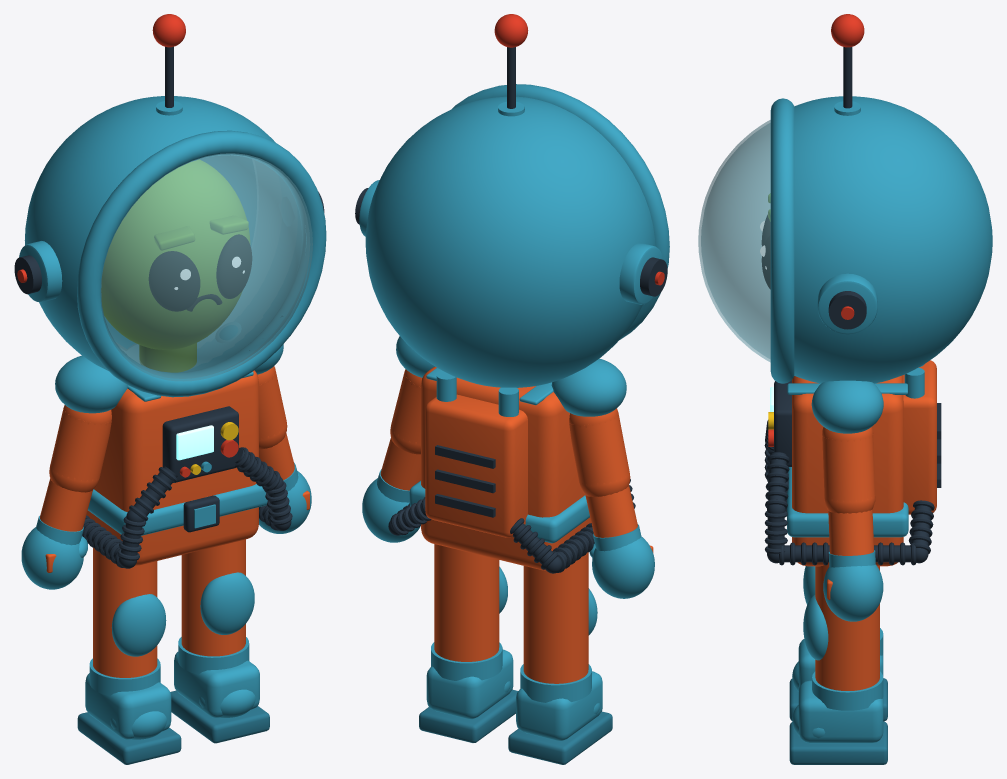
File: spaceman.glb
3 renders of one model, left to right at view 1: azimuth 30°, elevation 25°; view 2: azimuth 150°, elevation 25°; view 3: azimuth 270°, elevation 25°, orthographic.
Parts seen in each view (by area): view 1: Helmet_Visor, Helmet_Shell, Helmet_Collar, Alien_Head, Suit_Torso, Leg_L, Leg_R, Breathing_Hose_L, Arm_Upper_L, Chest_Console, Boot_Body_L, Shoulder_Pad_L (+30 smaller); view 2: Helmet_Shell, Backpack, Suit_Torso, Leg_L, Leg_R, Helmet_Collar, Boot_Body_R, Arm_Upper_L, Boot_Body_L, Shoulder_Pad_L, Glove_L, Boot_Sole_L (+22 smaller); view 3: Helmet_Shell, Helmet_Visor, Suit_Torso, Helmet_Collar, Breathing_Hose_R, Leg_R, Backpack, Boot_Body_R, Arm_Upper_R, Shoulder_Pad_R, Glove_R, Boot_Sole_R (+14 smaller).
Boxes of the visible parts, x1,y1,x2,y2 form: Helmet_Visor: (100,153,312,381); Helmet_Shell: (24,96,306,371); Helmet_Collar: (77,130,326,397); Alien_Head: (101,159,249,349); Suit_Torso: (86,370,258,565); Leg_L: (93,547,157,677); Leg_R: (181,539,245,656); Breathing_Hose_L: (82,466,177,568); Arm_Upper_L: (50,409,111,481); Chest_Console: (162,406,238,482); Boot_Body_L: (85,673,171,739); Shoulder_Pad_L: (55,355,127,413); Helmet_Shell: (365,96,655,387); Backpack: (425,394,527,537); Suit_Torso: (421,366,591,570); Leg_L: (523,552,588,683); Leg_R: (434,544,499,661); Helmet_Collar: (452,84,669,339); Boot_Body_R: (426,649,513,719); Arm_Upper_L: (569,413,629,486); Boot_Body_L: (516,671,602,740); Shoulder_Pad_L: (551,358,626,416); Glove_L: (592,536,654,598); Boot_Sole_L: (508,711,612,764); Helmet_Shell: (794,96,992,383); Helmet_Visor: (698,120,770,362); Suit_Torso: (792,375,903,566); Helmet_Collar: (770,98,794,383); Breathing_Hose_R: (764,452,934,565); Leg_R: (815,562,879,690); Backpack: (903,360,936,514); Boot_Body_R: (798,680,883,743); Arm_Upper_R: (822,434,875,502); Shoulder_Pad_R: (811,380,883,433); Glove_R: (823,564,883,621); Boot_Sole_R: (789,721,887,764).
Bounding box in the file's own units: 1.54 × 3.54 × 1.32.
